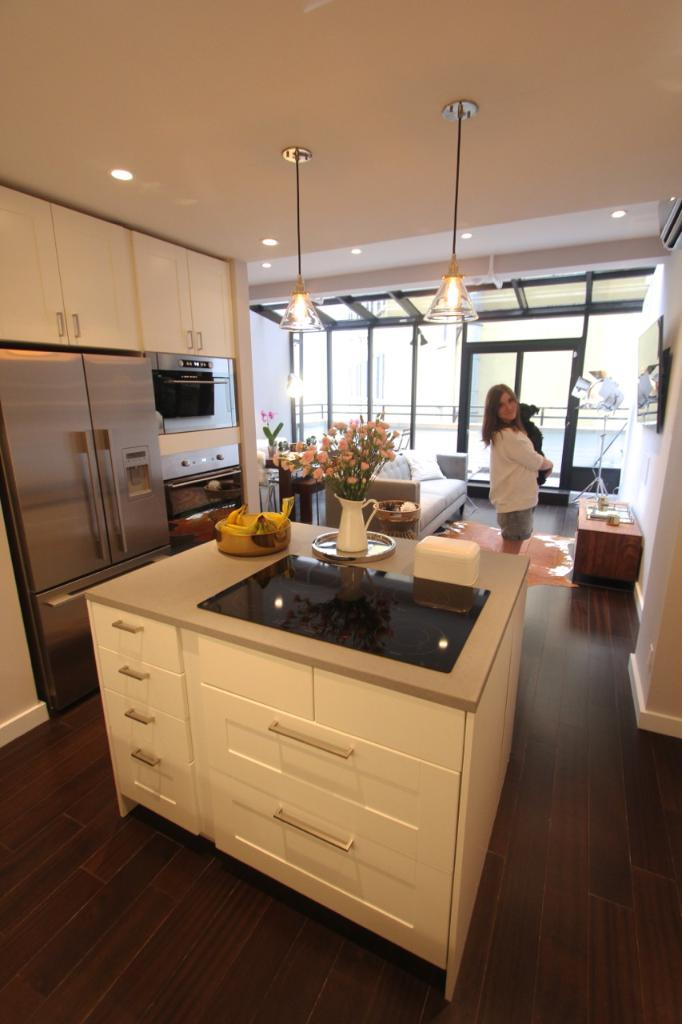cabinet door: (200, 693, 458, 822), (235, 772, 447, 922), (58, 198, 129, 326), (2, 201, 63, 347), (134, 235, 196, 337), (115, 742, 193, 818), (99, 698, 186, 759), (93, 613, 176, 664), (102, 667, 183, 717), (190, 266, 233, 340)
handle: (269, 814, 358, 859), (273, 721, 358, 764), (100, 422, 125, 555), (84, 431, 102, 560), (48, 589, 90, 620), (132, 751, 162, 781), (120, 661, 148, 688), (125, 705, 153, 728), (111, 622, 141, 641), (66, 306, 81, 344), (53, 306, 67, 346), (194, 324, 208, 361), (188, 326, 197, 358)
refrigerator door: (13, 374, 90, 572), (88, 361, 161, 538), (42, 593, 85, 694)
